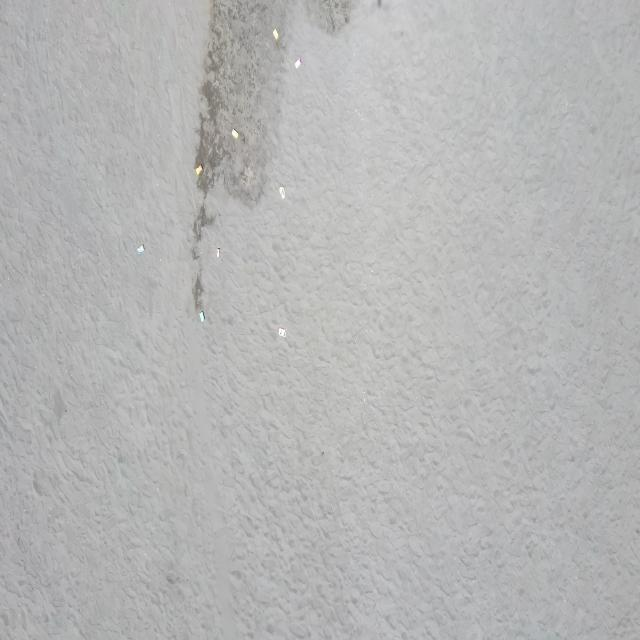Garbage: (272, 27, 278, 40), (293, 57, 300, 68), (195, 163, 201, 175), (278, 327, 286, 336), (136, 243, 143, 253), (232, 128, 238, 139), (279, 186, 284, 199), (199, 310, 203, 322), (216, 247, 219, 256)
